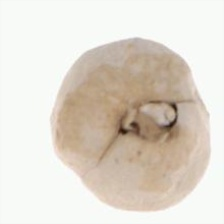L3: (114, 98, 181, 143)
L4: (48, 37, 212, 211)
